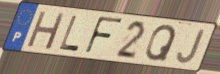2: (114, 20, 147, 62)
F: (83, 15, 125, 56)
H: (24, 10, 67, 52)
J: (175, 28, 207, 65)
L: (57, 15, 80, 54)
Q: (143, 24, 178, 63)
